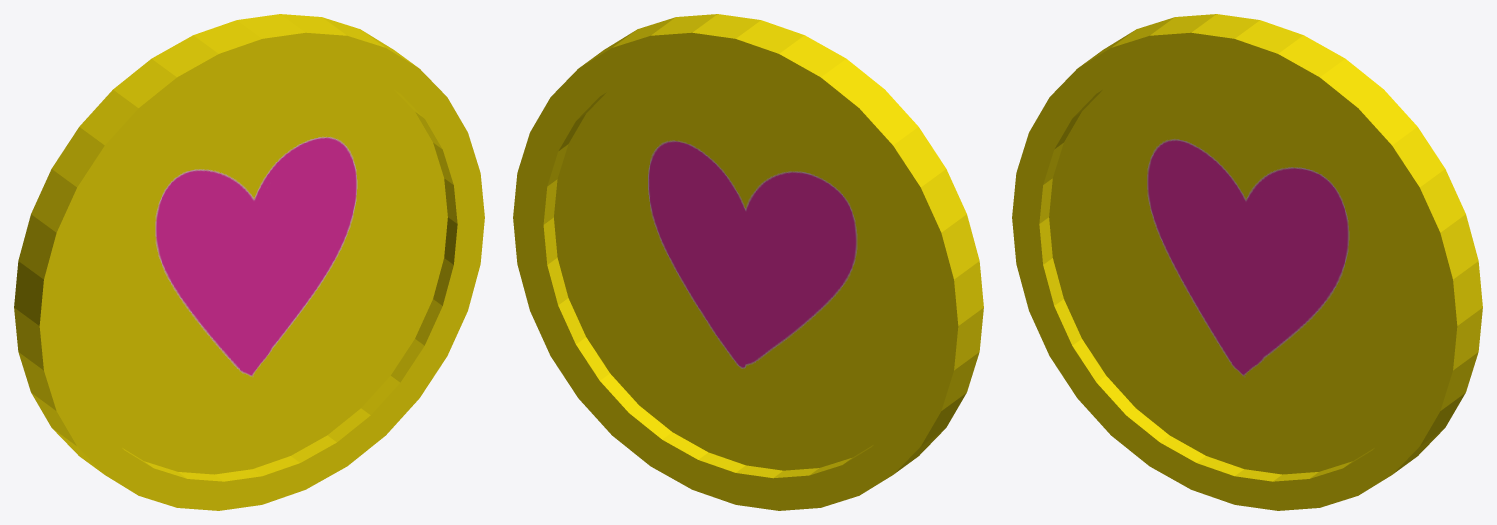
File: heartcoin1.fbx
3 views of the same model, side by side, from view 1: azimuth 30°, elevation 25°; view 2: azimuth 150°, elevation 25°; view 3: azimuth 330°, elevation 25° (orthographic).
Parts seen in each view (by area): view 1: heartcoin1; view 2: heartcoin1; view 3: heartcoin1.
Boxes of the visible parts, left/top/right/bottom form: heartcoin1: left=14, top=14, right=484, bottom=510; heartcoin1: left=513, top=14, right=983, bottom=510; heartcoin1: left=1012, top=14, right=1482, bottom=510.
Bounding box in the file's own units: 200 × 200 × 19.94.
Materials: 1 (1 with a texture image).
